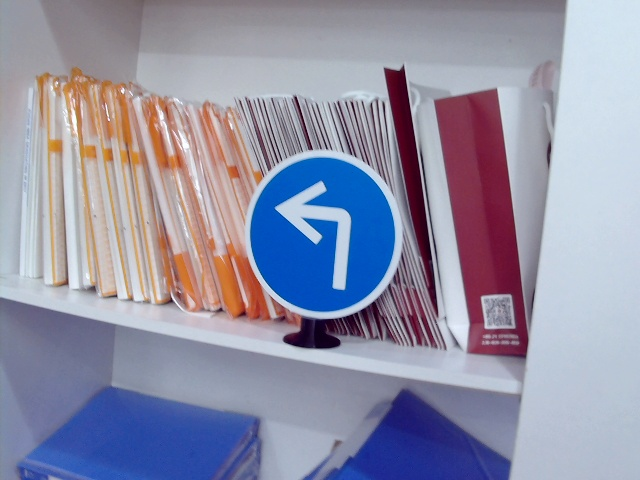turn_left: (276, 179, 360, 292)
